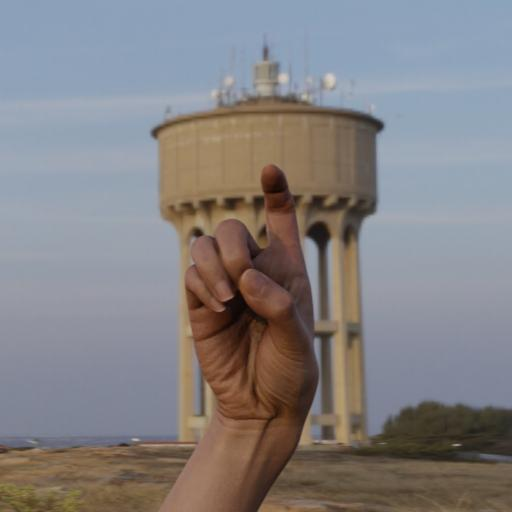X: (145, 150, 345, 459)
